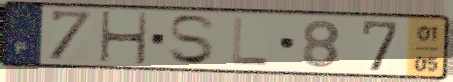7: (47, 8, 95, 63), (359, 19, 399, 73)
8: (301, 19, 343, 70)
H: (98, 10, 150, 67)
L: (229, 16, 272, 67)
S: (166, 13, 220, 67)
